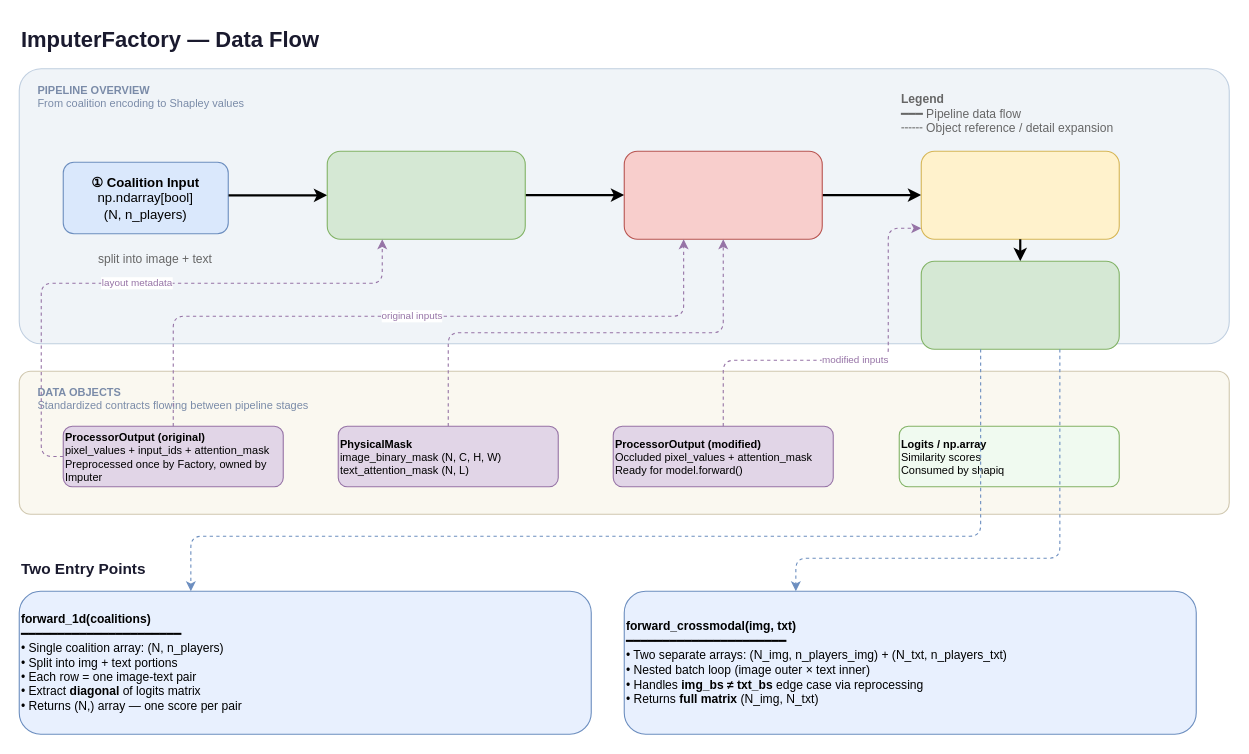
The diagram is 1249 pixels wide and 754 high, and some of its shapes have lost their labels. Here are the shapes that lost their labels. From the top down, the centre of each, then its label:
At point 425,194: "② Segmentation Segmenter.generate_masks() Coalitions → PhysicalMask".
At point 722,194: "③ Occlusion Masker.apply() Apply PhysicalMask to inputs".
At point 1019,194: "④ Model Forward model(**inputs) VLM inference (CLIP/SigLIP)".
At point 1019,304: "⑤ Output Logits → np.ndarray → VisionLanguageGame → shapiq".
